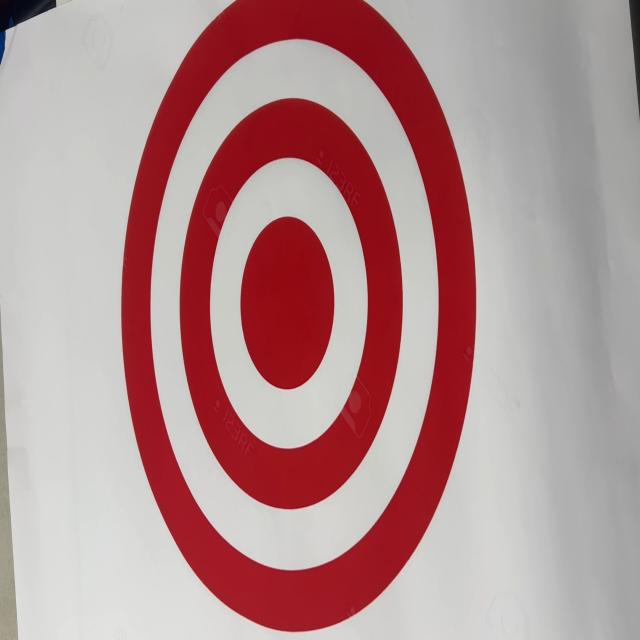target_red: (110, 0, 491, 640)
